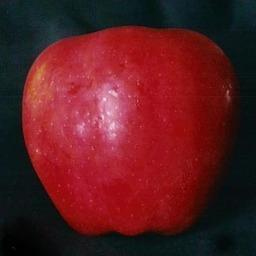apple: (20, 24, 238, 236)
